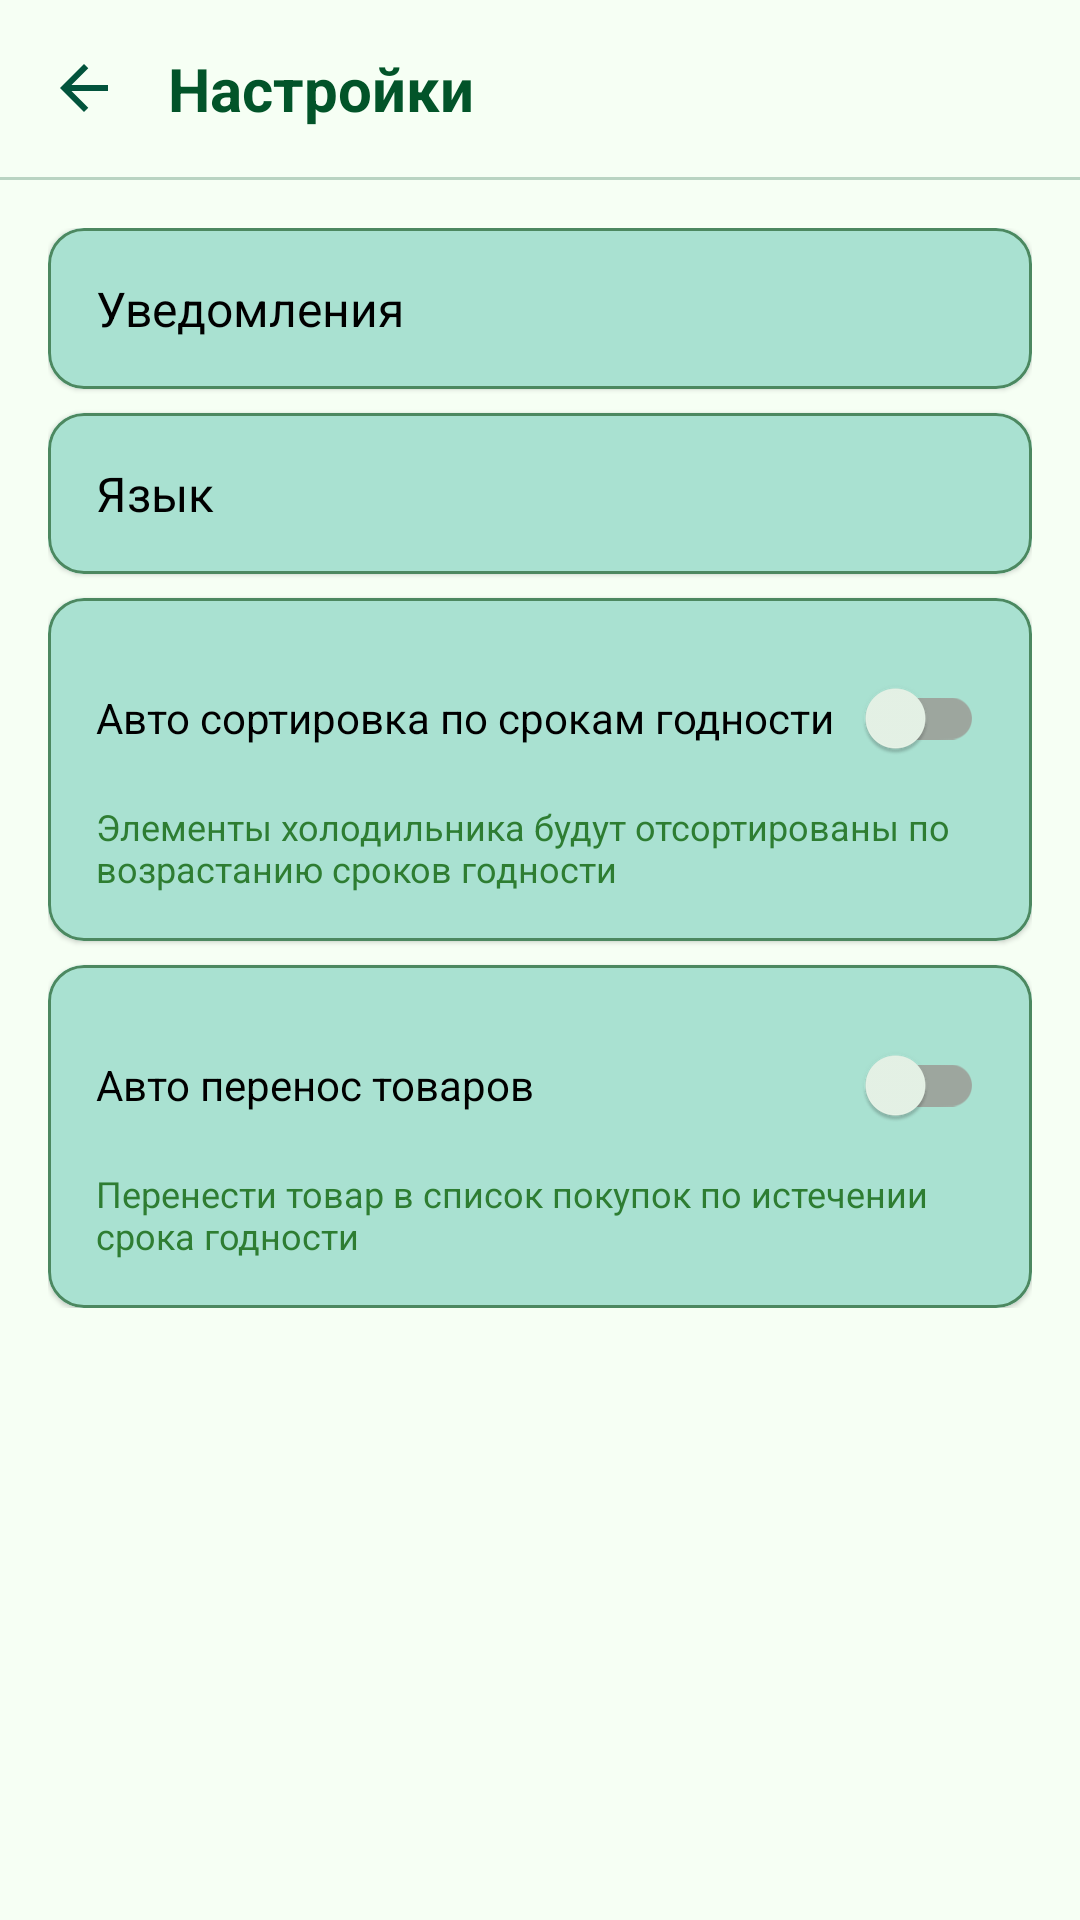

Screen size 1080px×1920px. Icon name, then its box in pixels as (x1, y1, x2, y2):
back: (60, 64, 108, 112)
